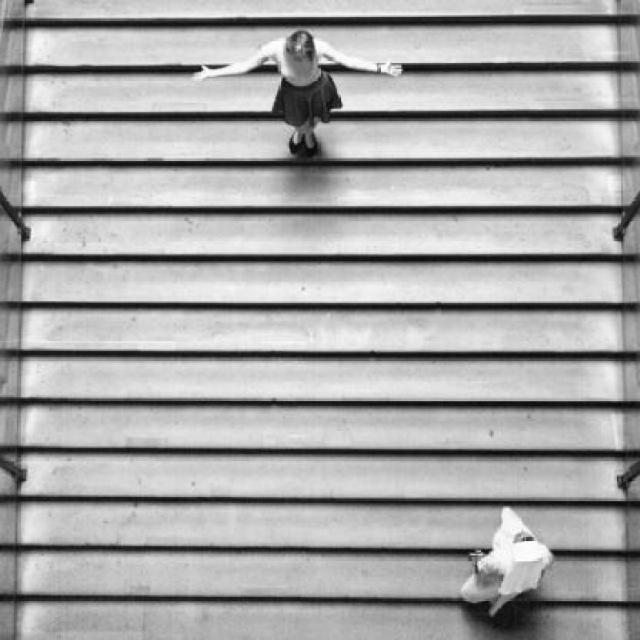stair: (10, 0, 636, 640)
